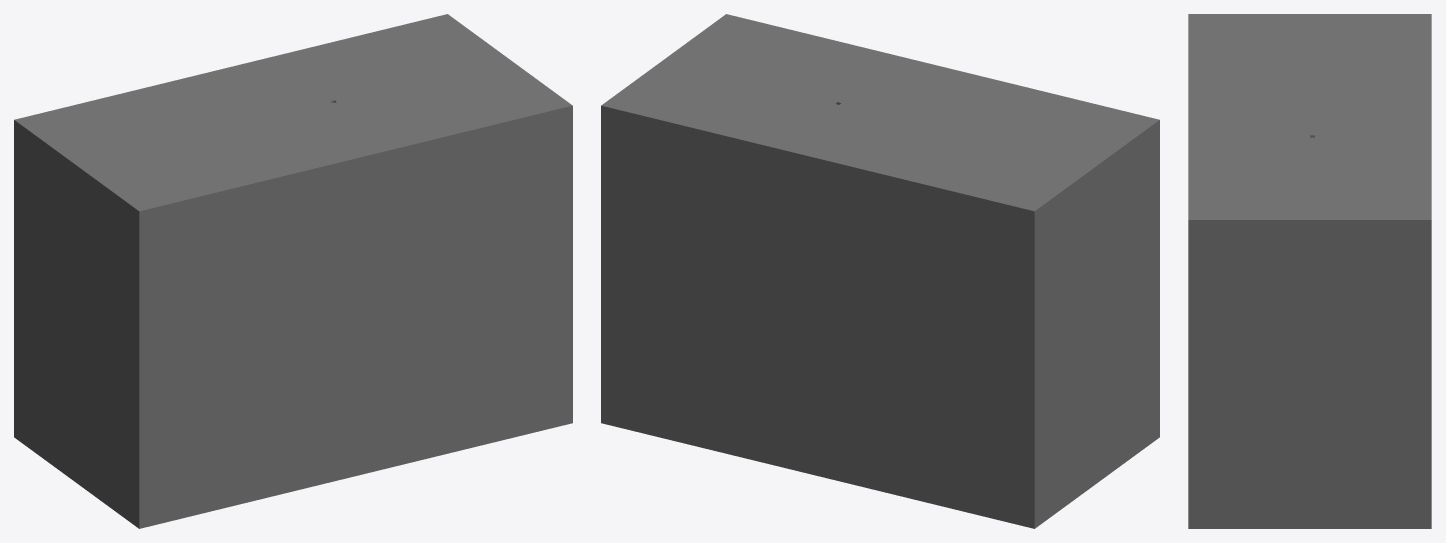
The model's file is bossgolem-3.obj.
3 views of the same model, side by side, from view 1: azimuth 30°, elevation 25°; view 2: azimuth 150°, elevation 25°; view 3: azimuth 270°, elevation 25° (orthographic). The views are drawn at different scales.
Size of the model in its own units: 10 by 7 by 5.
Materials: 1 (1 with a texture image).
